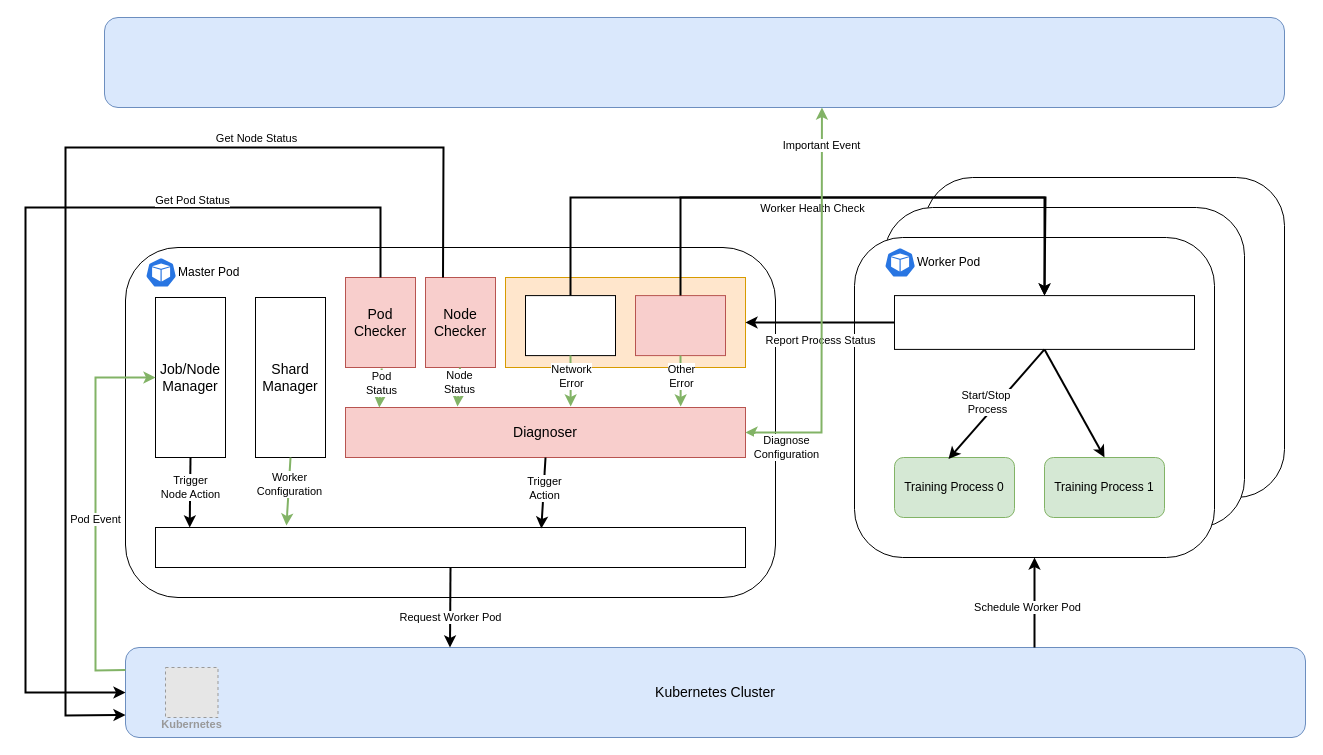
Some shapes in this 1323 by 755 pixel diagram are drawn without their labels. Grey dashed boxes stand in for pictures. Each missing label, with the box of its shape:
AI Studio / AI Scope / TSDB: (104, 16, 1284, 108)
Elastic Agent: (894, 295, 1194, 349)
Other Metrics Checker: (634, 295, 726, 356)
Pod Scalar/Manager: (154, 526, 746, 568)
Rendezvous Checker: (524, 295, 616, 356)
